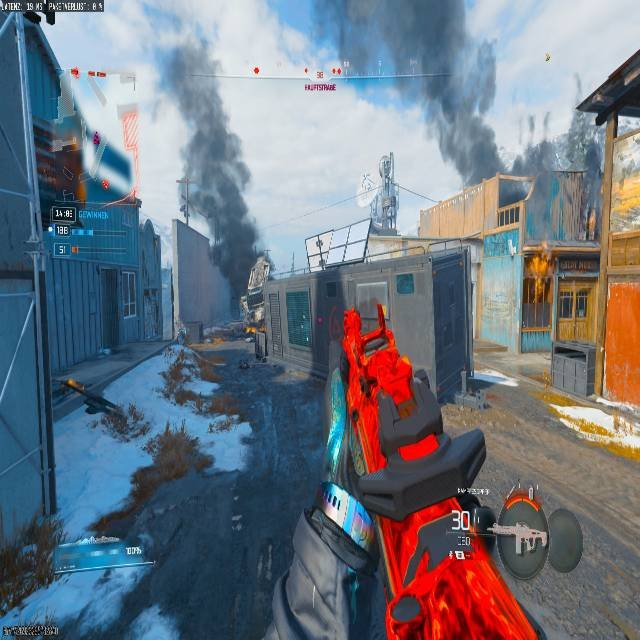player: (240, 305, 269, 362)
